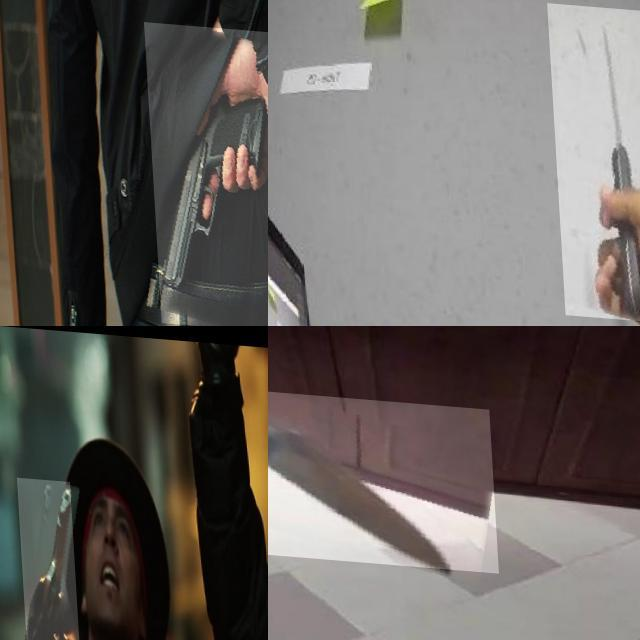-: (268, 382, 494, 566), (546, 0, 640, 317)
gun-knife-thesis - v11 Yolov5 augmented: (142, 18, 268, 326), (15, 475, 77, 640)
